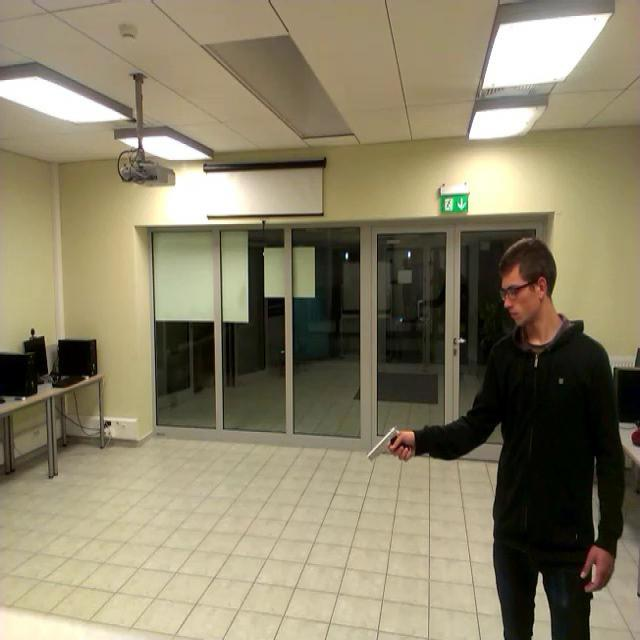weapon: (366, 429, 411, 464)
